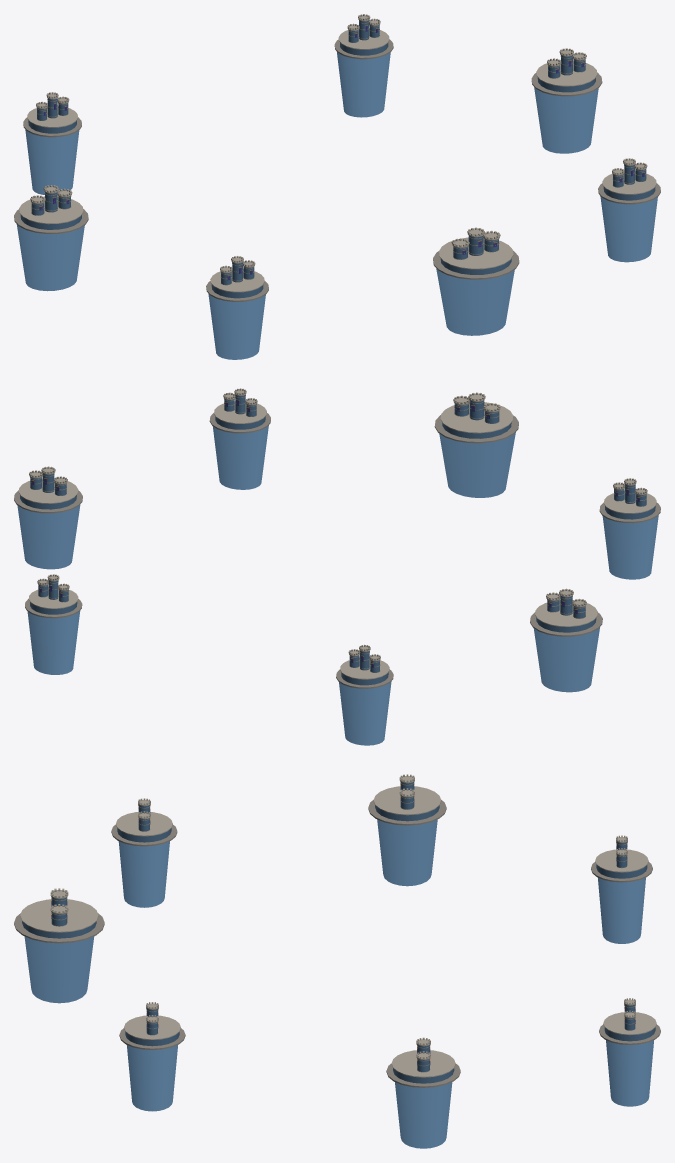
Rendered from high_crown_horizon_towers.obj.
3 renders of one model, top to bottom at view 1: azimuth 30°, elevation 25°; view 2: azimuth 150°, elevation 25°; view 3: azimuth 270°, elevation 25°, orthographic. The views are drawn at different scales.
Visible parts, largest first — view 1: high_crown_horizon_towers; view 2: high_crown_horizon_towers; view 3: high_crown_horizon_towers.
Part boxes in pixels (x1,y1,x2,y2): high_crown_horizon_towers: (14,14,660,359); high_crown_horizon_towers: (14,388,660,745); high_crown_horizon_towers: (14,774,660,1148).
Size of the model in its own units: 350 by 66.94 by 320.
